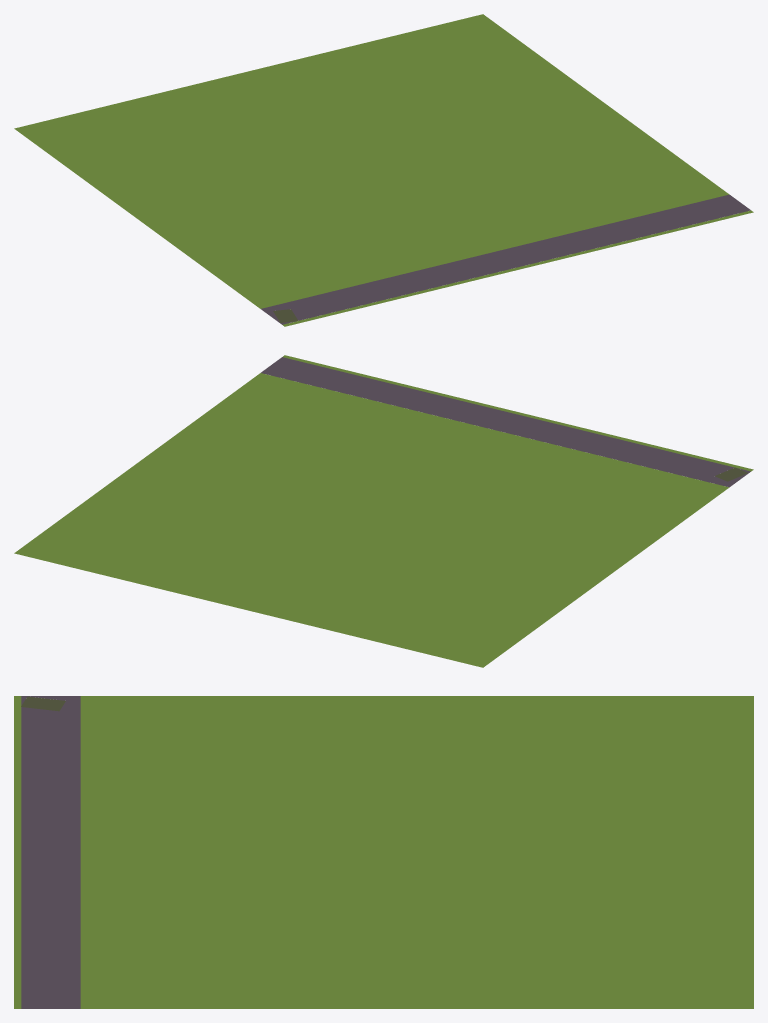
File: cure-25-1.glb
The picture shows the model from 3 angles, top to bottom: view 1: azimuth 30°, elevation 25°; view 2: azimuth 150°, elevation 25°; view 3: azimuth 270°, elevation 25°; orthographic projection. The views are drawn at different scales.
Parts seen in each view (by area): view 1: cure-25-1; view 2: cure-25-1; view 3: cure-25-1.
Part boxes in pixels (x1,y1,x2,y2): cure-25-1: (14, 14, 753, 326); cure-25-1: (14, 355, 753, 667); cure-25-1: (14, 696, 753, 1008).
Size of the model in its own units: 100 by 0.008 by 100.
